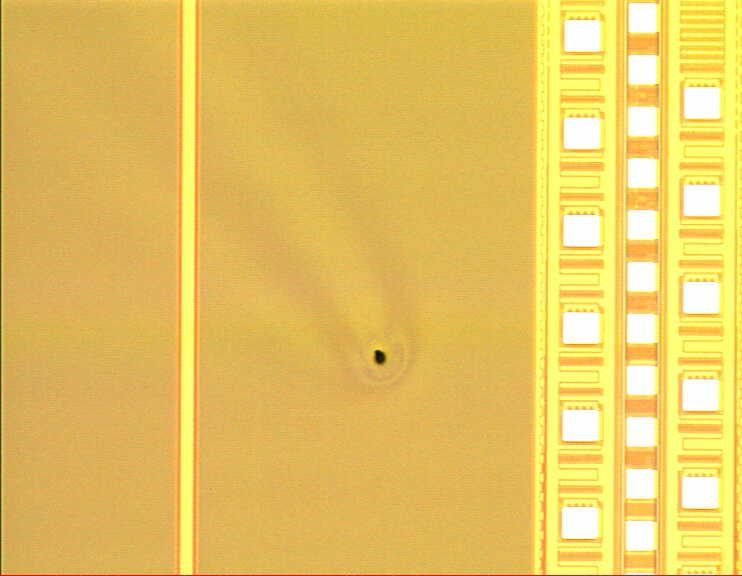PIQ PARTICLE: (370, 348, 390, 368)
